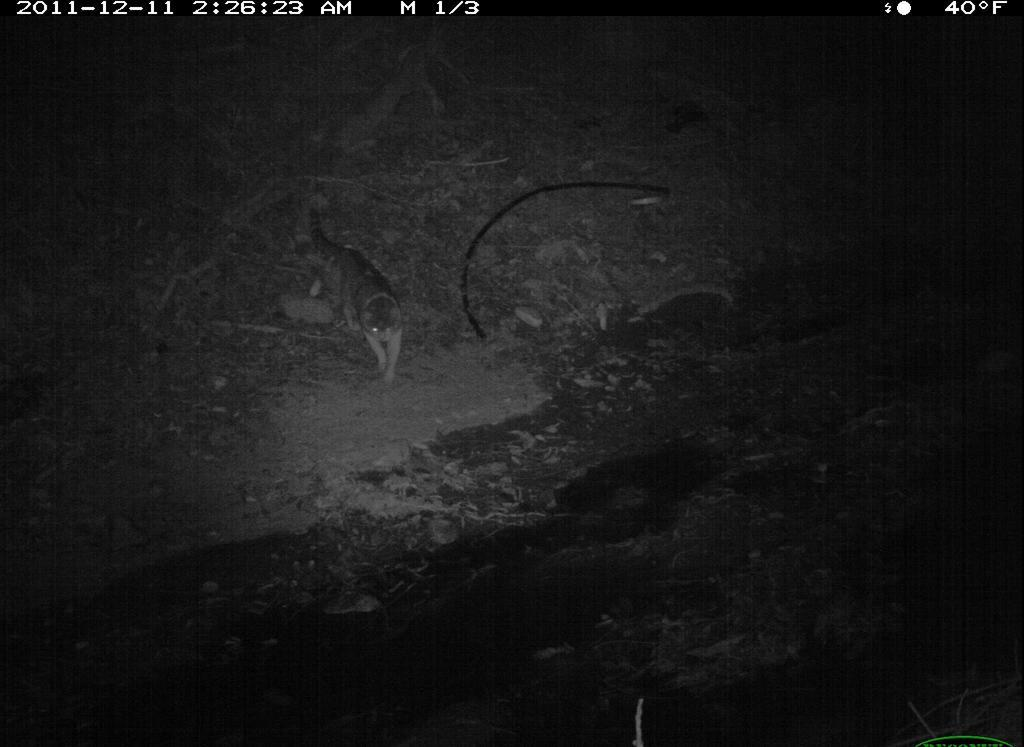cat: (303, 199, 410, 390)
